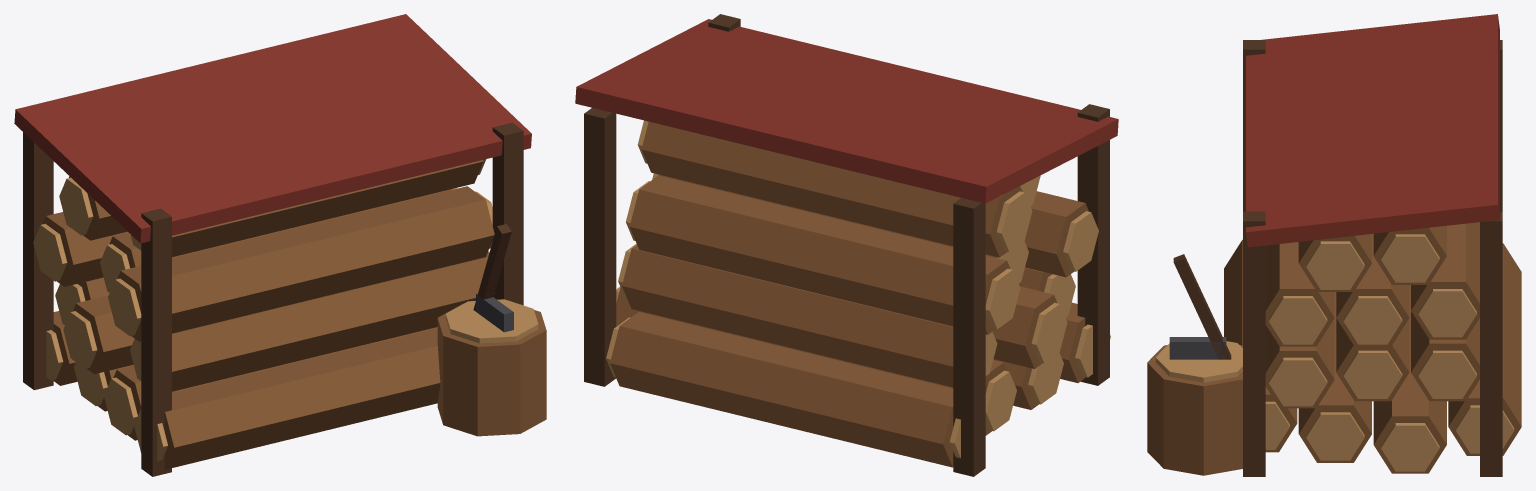
File: Holzstapel.fbx
The picture shows the model from 3 angles, left to right: view 1: azimuth 30°, elevation 25°; view 2: azimuth 150°, elevation 25°; view 3: azimuth 270°, elevation 25°; orthographic projection. The views are drawn at different scales.
Parts seen in each view (by area): view 1: Holzstapel; view 2: Holzstapel; view 3: Holzstapel.
Boxes of the visible parts, bbox=[...] form: Holzstapel: bbox=[14, 14, 546, 476]; Holzstapel: bbox=[575, 14, 1118, 476]; Holzstapel: bbox=[1147, 14, 1521, 476].
Size of the model in its own units: 1.6 by 1.08 by 1.33.
